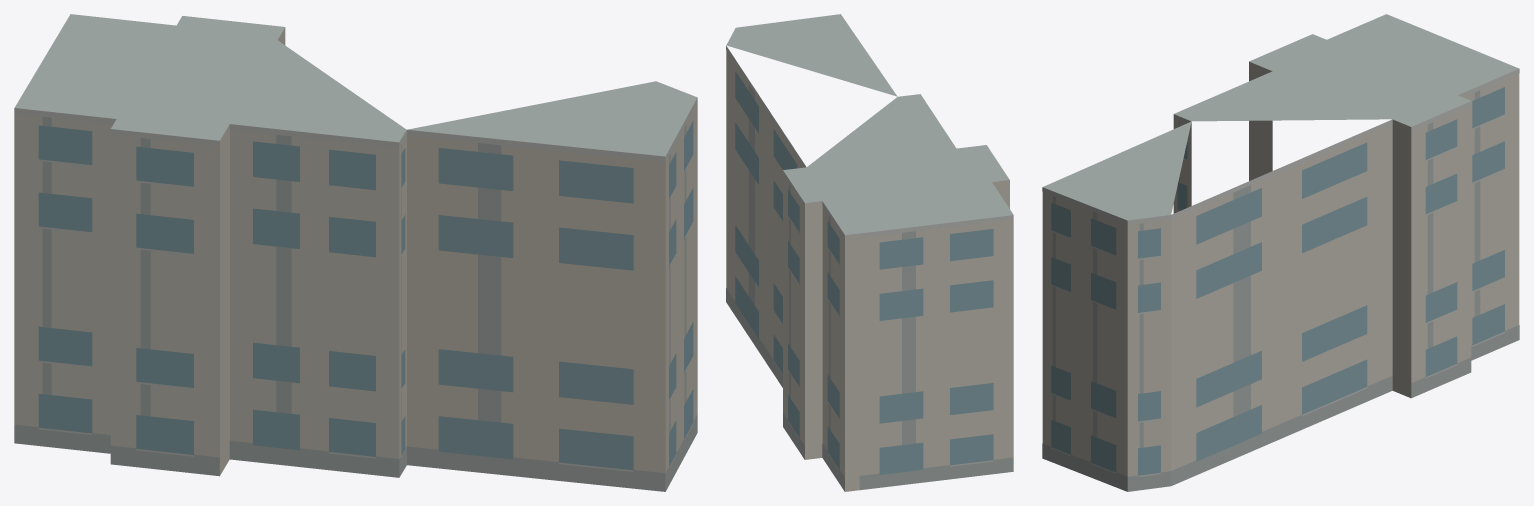
The model's file is survey-upis-32945817.glb.
3 views of the same model, side by side, from view 1: azimuth 30°, elevation 25°; view 2: azimuth 150°, elevation 25°; view 3: azimuth 270°, elevation 25° (orthographic). The views are drawn at different scales.
Visible parts, largest first — view 1: survey-upis-32945817.tmp; view 2: survey-upis-32945817.tmp; view 3: survey-upis-32945817.tmp.
Boxes of the visible parts, box(x1,y1,x2,y2) form: survey-upis-32945817.tmp: box(14, 14, 697, 491); survey-upis-32945817.tmp: box(726, 14, 1013, 491); survey-upis-32945817.tmp: box(1042, 14, 1519, 491).
Size of the model in its own units: 23.35 by 14.3 by 22.79.
